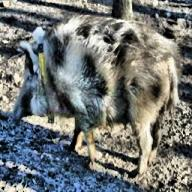boar: (1, 12, 183, 182)
